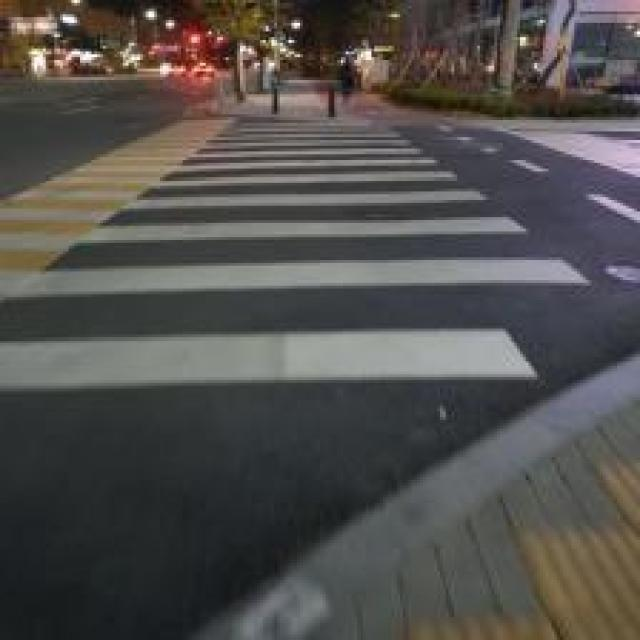crosswalk: (1, 92, 640, 417)
